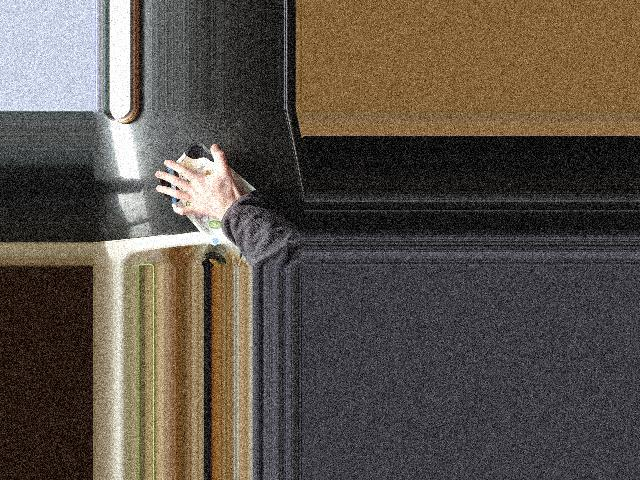cheese: (156, 141, 263, 249)
